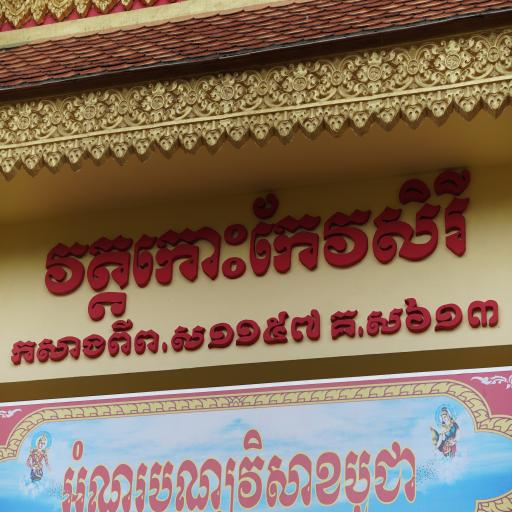la: (417, 31, 492, 81), (336, 49, 415, 96), (262, 58, 337, 106), (193, 66, 261, 113), (122, 78, 194, 121), (56, 93, 126, 132), (0, 96, 55, 142), (481, 84, 510, 118), (427, 90, 453, 126), (454, 87, 482, 120), (202, 118, 229, 152), (400, 95, 426, 130), (493, 27, 512, 74), (374, 99, 402, 130), (224, 115, 252, 146), (348, 102, 375, 134), (88, 133, 113, 166), (152, 122, 180, 151), (249, 114, 274, 146), (132, 130, 156, 162), (299, 110, 326, 138), (273, 113, 299, 142), (20, 144, 44, 175), (324, 104, 347, 136), (178, 121, 202, 151), (44, 140, 68, 170), (0, 144, 21, 178), (67, 138, 88, 170), (110, 132, 131, 162)
